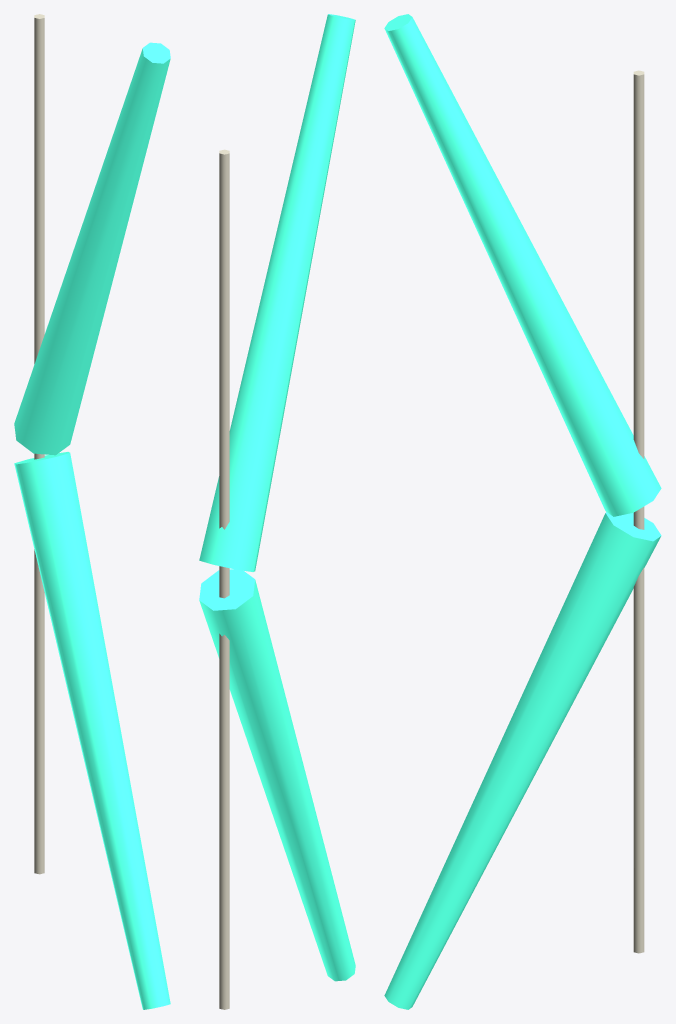
Rendered from weapon_bow.glb.
3 renders of one model, left to right at view 1: azimuth 30°, elevation 25°; view 2: azimuth 150°, elevation 25°; view 3: azimuth 270°, elevation 25°, orthographic. The views are drawn at different scales.
Parts seen in each view (by area): view 1: bow_limbs, bow_string; view 2: bow_limbs, bow_string; view 3: bow_limbs, bow_string.
Part boxes in pixels (left/top/right/bottom): bow_limbs: left=14, top=42, right=170, bottom=1009; bow_string: left=34, top=14, right=44, bottom=874; bow_limbs: left=199, top=14, right=355, bottom=981; bow_string: left=219, top=149, right=229, bottom=1009; bow_limbs: left=384, top=14, right=661, bottom=1009; bow_string: left=633, top=70, right=644, bottom=953.
Size of the model in its own units: 0.08 by 1.42 by 0.3606.
